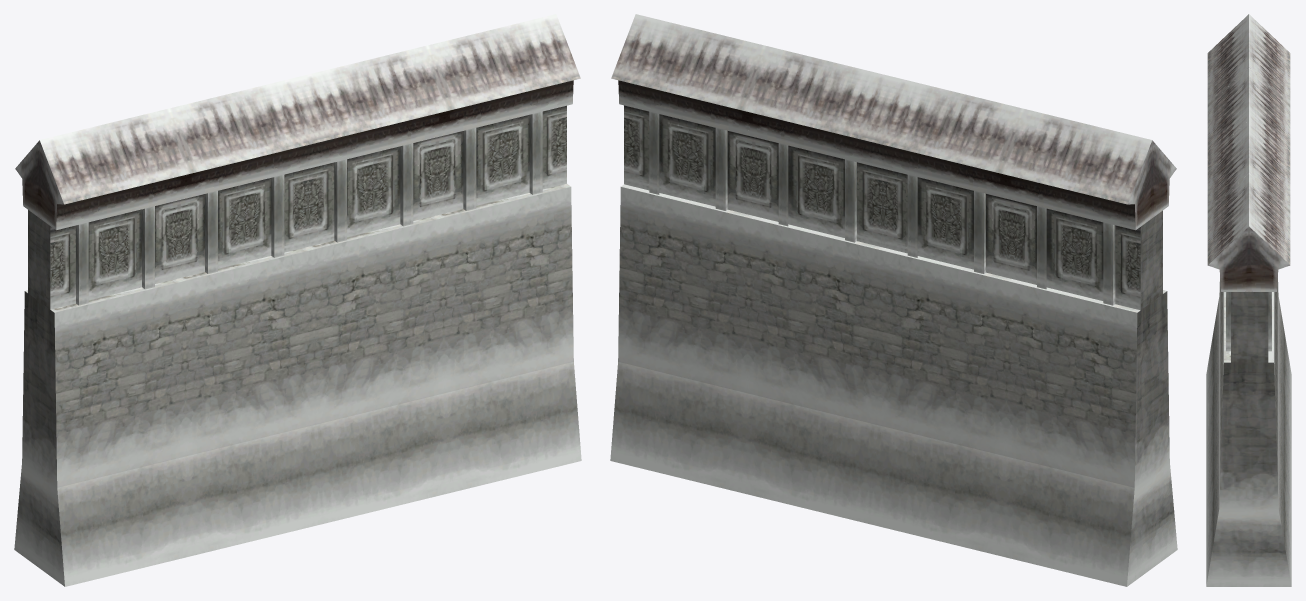
Rendered from snow-middledam-02_lod_01.fbx.
The picture shows the model from 3 angles, left to right: view 1: azimuth 30°, elevation 25°; view 2: azimuth 150°, elevation 25°; view 3: azimuth 270°, elevation 25°; orthographic projection. The views are drawn at different scales.
Parts seen in each view (by area): view 1: snow-middledam-02; view 2: snow-middledam-02; view 3: snow-middledam-02.
Part boxes in pixels (x1,y1,x2,y2): snow-middledam-02: (14, 14, 581, 586); snow-middledam-02: (610, 14, 1177, 586); snow-middledam-02: (1206, 14, 1291, 586).
Size of the model in its own units: 10 by 7.92 by 1.7.
